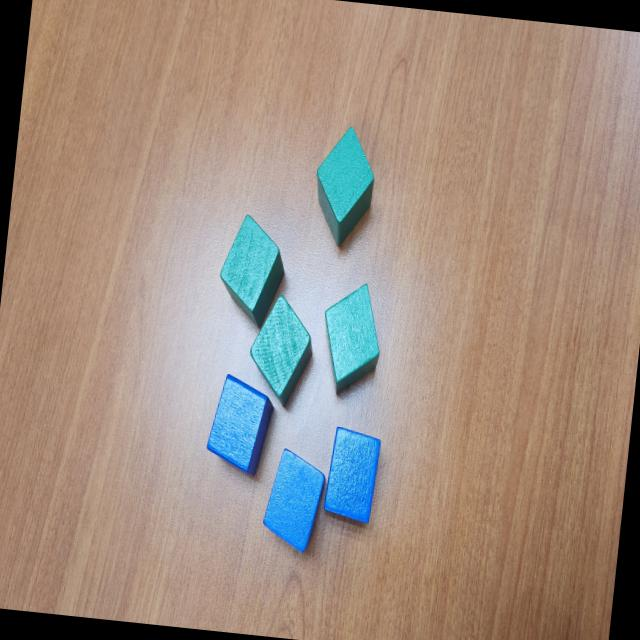blue: (204, 374, 277, 478), (260, 446, 328, 554), (322, 426, 382, 525)
green: (308, 121, 380, 249), (215, 212, 290, 332), (244, 290, 318, 410), (316, 280, 388, 400)
